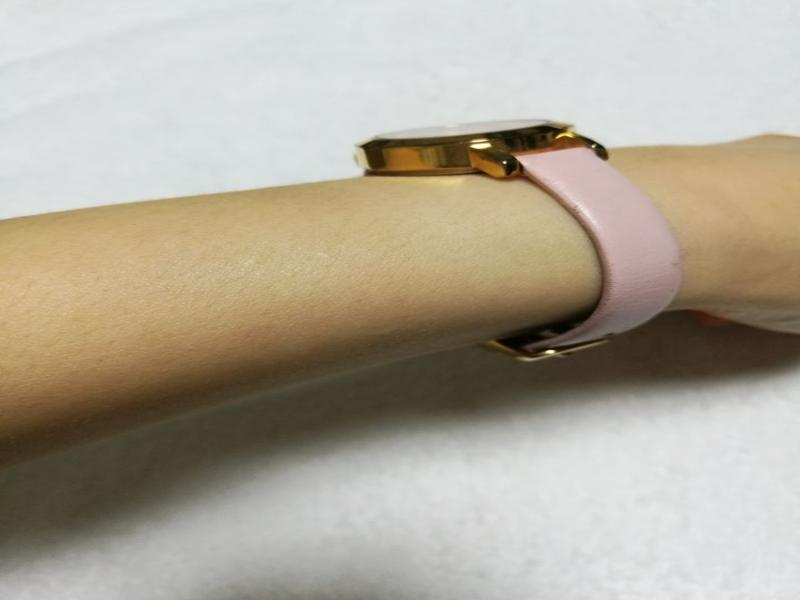watch: (352, 116, 682, 366)
